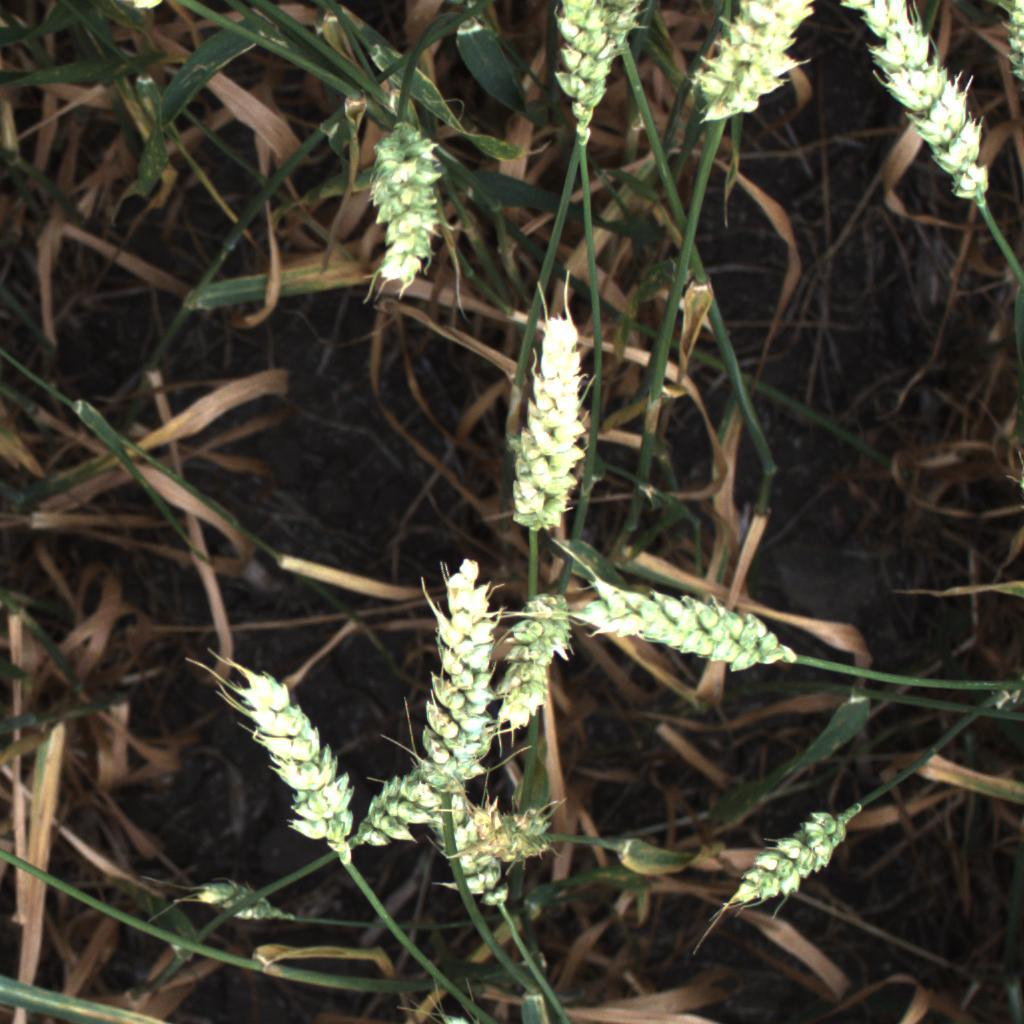0-0: (833, 0, 998, 219), (569, 564, 809, 675), (226, 667, 348, 876), (497, 299, 594, 537), (410, 550, 507, 787), (352, 114, 451, 311), (680, 0, 820, 135), (354, 723, 494, 857), (724, 798, 858, 918), (542, 0, 658, 133), (494, 577, 580, 740), (431, 766, 517, 909), (467, 797, 562, 868), (172, 875, 301, 925), (994, 0, 1024, 99)
